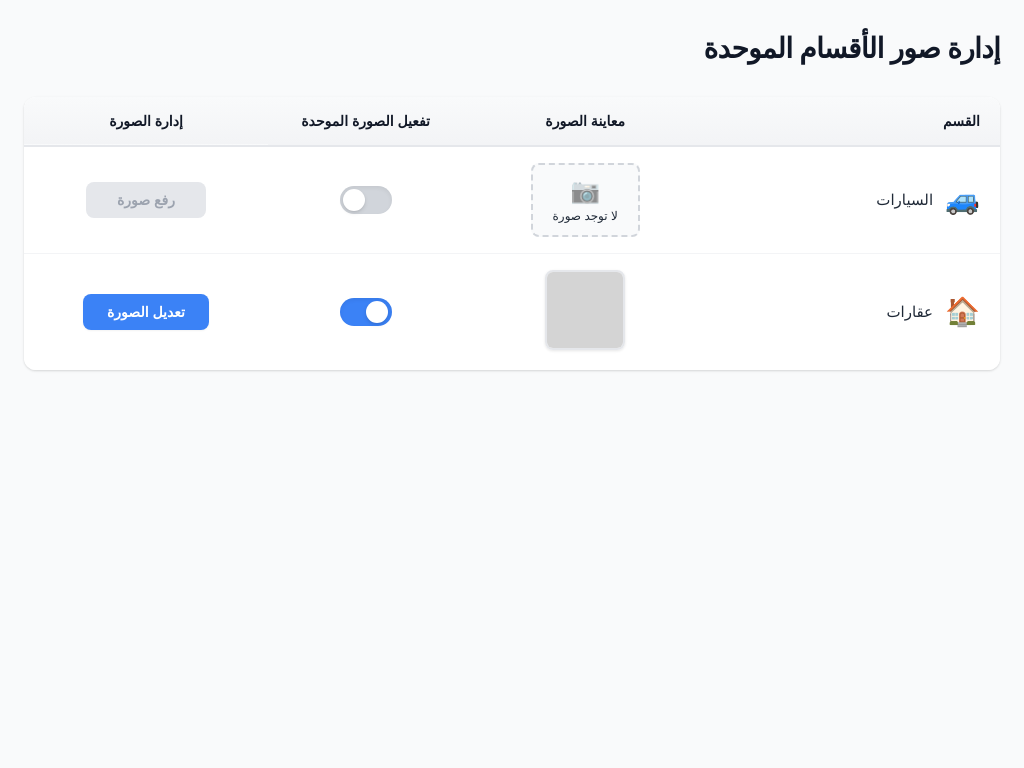
Test: UnifiedImagesPage › Upload Modal › closes modal when cancel is clicked
Check: the text "عقارات" is shown, box [886,303,933,321]
What coordinates should you click on to do the following:
click the button "تعديل الصورة"
I would click on:
 (146, 312)
Its box is [83,294,209,330].
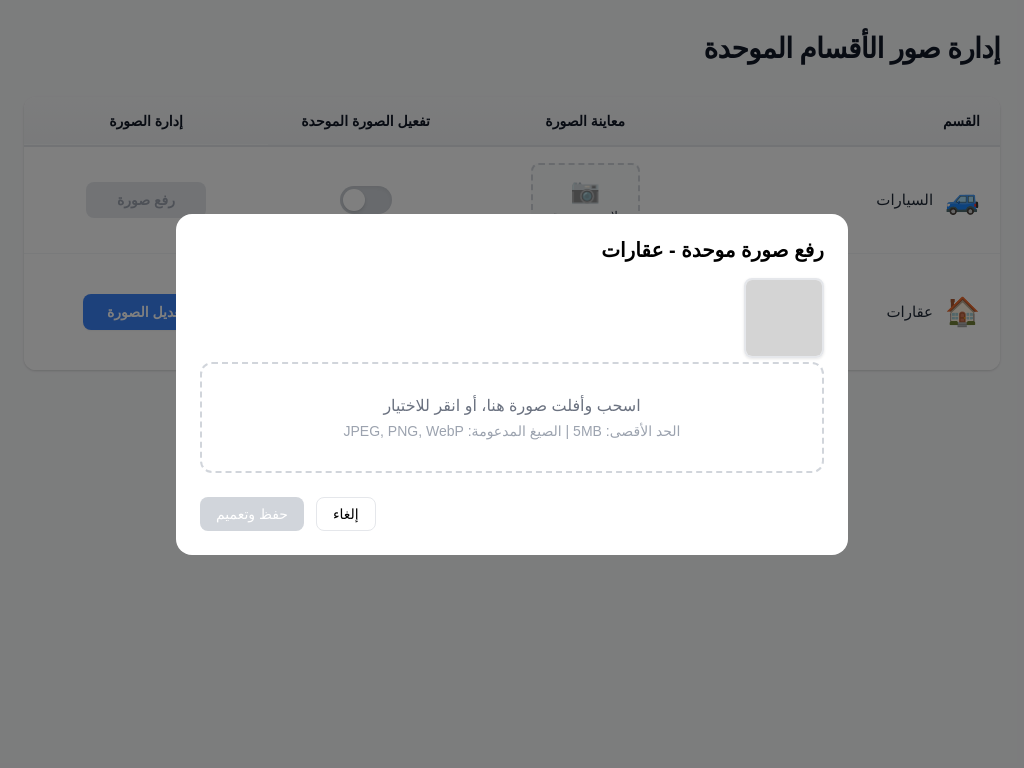
Check: the heading "رفع صورة موحدة - عقارات" is shown, box [601,238,824,260]
What coordinates should you click on to do the following:
click the button "إلغاء"
I would click on:
 (346, 514)
Its box is [316,496,376,530].
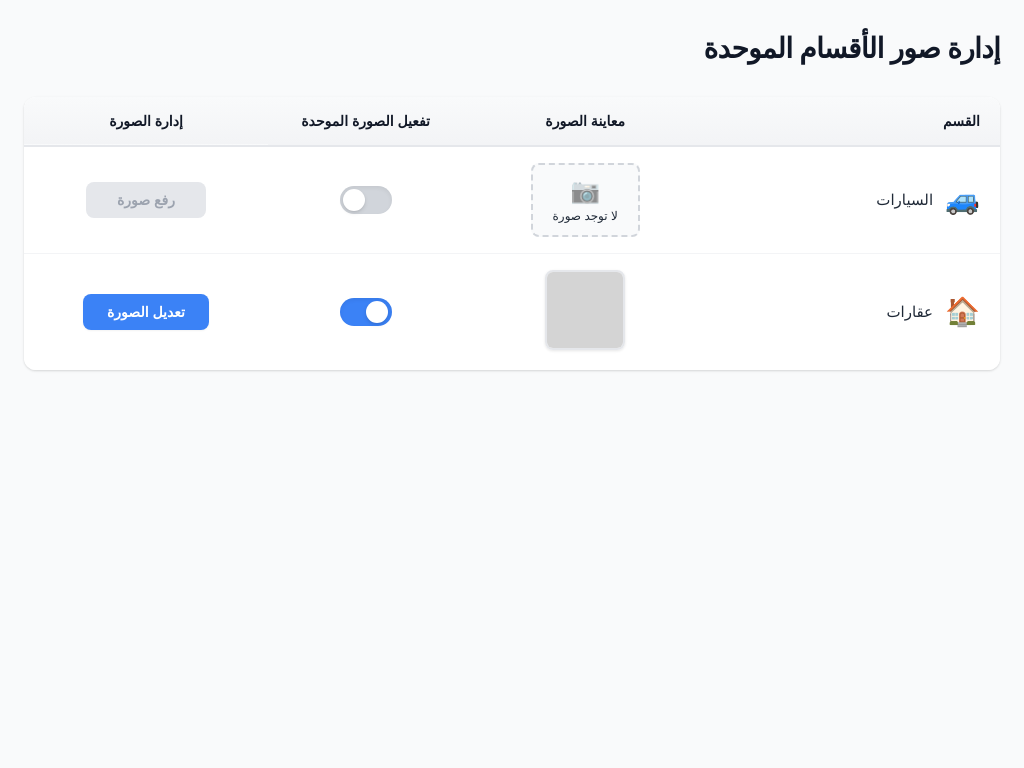
Check: the heading "رفع صورة موحدة - عقارات" is gone
